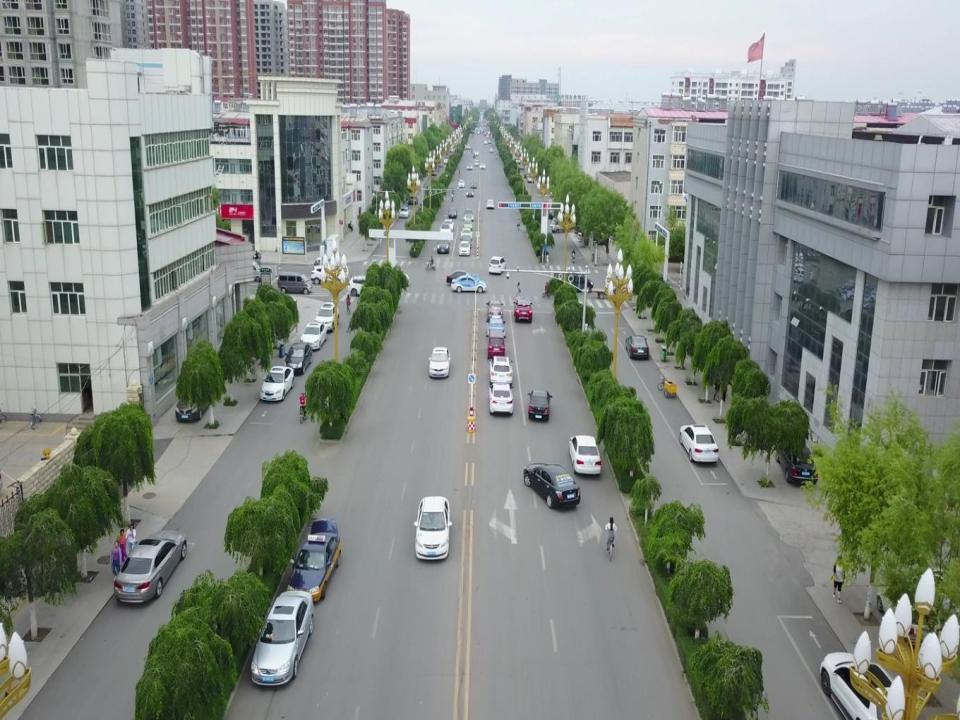car: (820, 652, 909, 720), (251, 591, 314, 685), (114, 530, 186, 602), (286, 518, 342, 602), (876, 585, 941, 645), (523, 462, 580, 509), (911, 566, 960, 616), (414, 496, 451, 560), (775, 439, 818, 485), (175, 377, 213, 421), (679, 425, 719, 462), (568, 435, 601, 474), (260, 365, 294, 401), (283, 342, 312, 374), (527, 388, 553, 420), (488, 382, 513, 415), (300, 322, 327, 350), (315, 302, 339, 332), (451, 273, 487, 293), (489, 356, 513, 385), (310, 266, 344, 286), (428, 348, 450, 378), (348, 276, 379, 296), (486, 330, 505, 360), (625, 335, 649, 358), (381, 268, 410, 284), (514, 299, 532, 323), (487, 318, 506, 337), (486, 300, 503, 321), (577, 230, 605, 242), (488, 256, 506, 274), (457, 241, 471, 256), (436, 238, 450, 253), (442, 219, 454, 232), (460, 228, 472, 240), (440, 223, 451, 235), (464, 208, 474, 221), (463, 218, 473, 231), (448, 207, 458, 218), (399, 207, 409, 217), (408, 196, 418, 205), (486, 199, 494, 209), (526, 173, 534, 183), (466, 188, 474, 197), (548, 209, 556, 218), (458, 180, 466, 187), (470, 181, 477, 188), (443, 159, 451, 165), (438, 159, 443, 167), (431, 169, 437, 175), (479, 164, 486, 169), (515, 157, 520, 164), (524, 171, 529, 178), (467, 164, 472, 169), (520, 163, 524, 169), (466, 144, 470, 149), (490, 148, 494, 152), (474, 152, 478, 156), (488, 139, 491, 144), (484, 140, 487, 144)
truck: (312, 256, 336, 271)
van: (552, 271, 594, 293), (277, 271, 312, 294), (235, 261, 264, 281), (550, 216, 578, 234), (474, 160, 478, 166)
